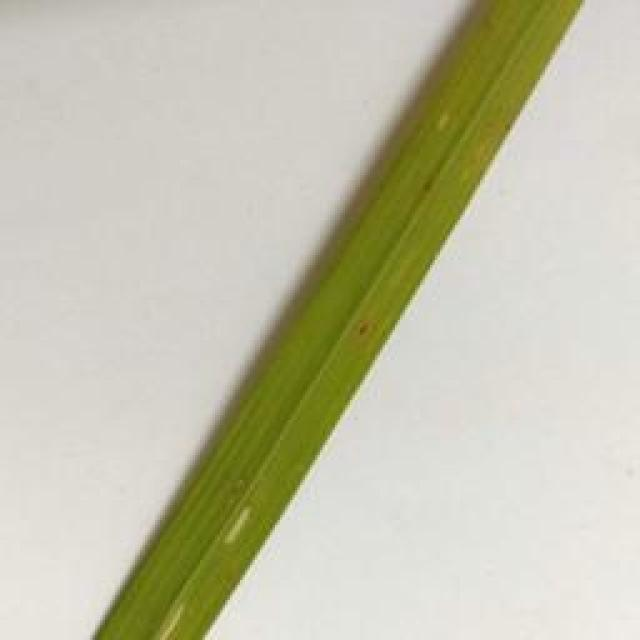Bacterial_Blight: (210, 496, 262, 544), (160, 561, 189, 640), (440, 95, 450, 121)
Brown_Spot: (359, 308, 378, 347), (416, 177, 440, 204)
